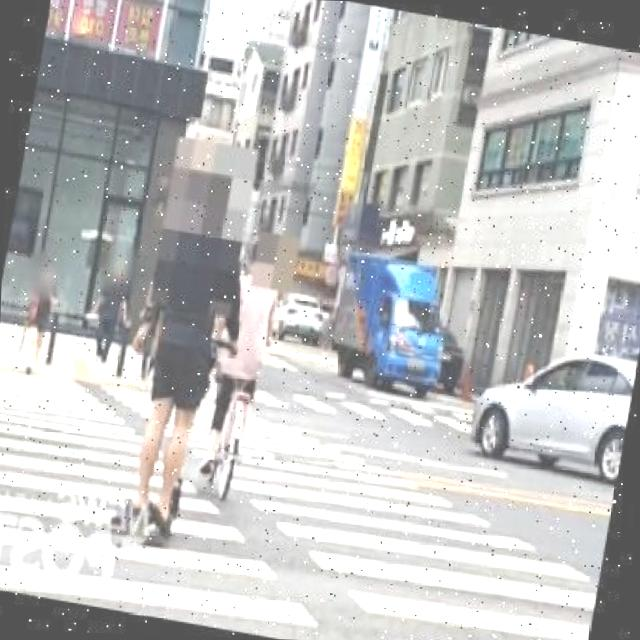Person: (108, 162, 258, 550), (12, 264, 67, 381), (82, 258, 136, 370)
